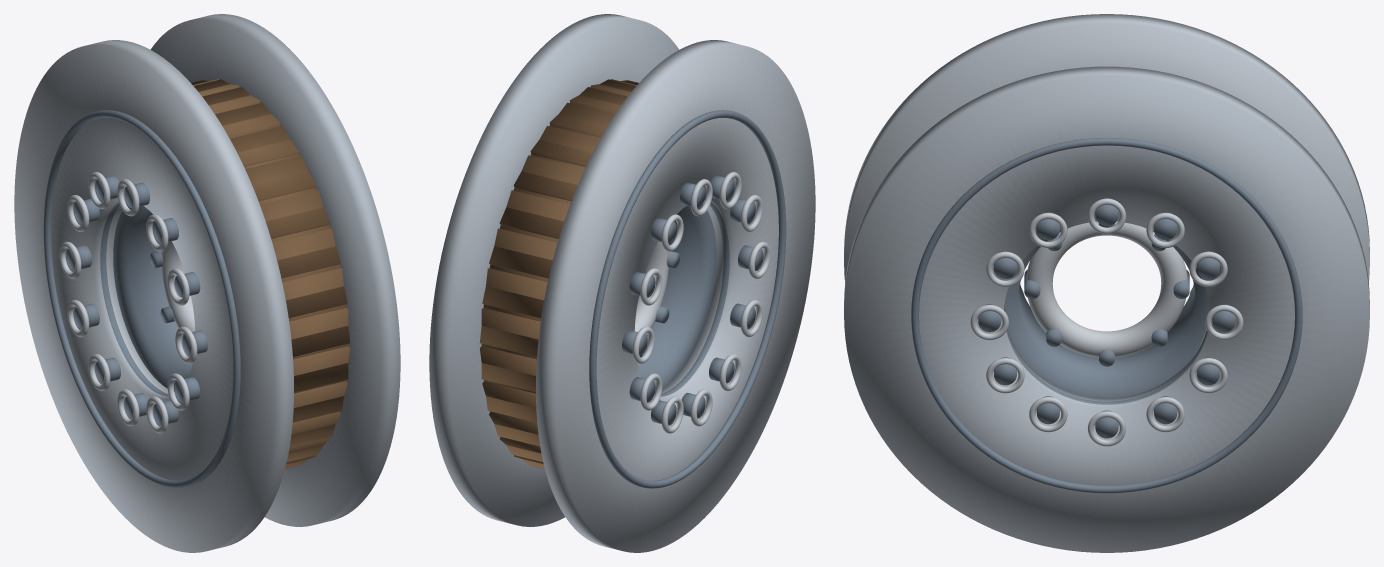
File: alstom_disc.glb
3 views of the same model, side by side, from view 1: azimuth 30°, elevation 25°; view 2: azimuth 150°, elevation 25°; view 3: azimuth 270°, elevation 25° (orthographic).
Visible parts, largest first — view 1: Pista izquierda, Pista derecha, Pista izquierda canal de desgaste, Aro de fijación, Canal ventilacion 14, Canal ventilacion 13, Canal ventilacion 15, Canal ventilacion 12, Canal ventilacion 16, Canal ventilacion 11, Canal ventilacion 17, Canal ventilacion 10 (+18 smaller); view 2: Pista izquierda, Pista derecha, Pista izquierda canal de desgaste, Aro de fijación, Canal ventilacion 03, Canal ventilacion 04, Canal ventilacion 02, Canal ventilacion 05, Canal ventilacion 01, Canal ventilacion 06, Canal ventilacion 30, Canal ventilacion 07 (+18 smaller); view 3: Pista derecha, Pista izquierda, Aro de fijación, Pista derecha canal de desgaste, Anillo cubo, Pista derecha borde interior, Arandela derecho 10, Arandela derecho 03, Arandela derecho 05, Arandela derecho 01, Arandela derecho 07, Arandela derecho 09 (+6 smaller).
Boxes of the visible parts, x1,y1,x2,y2 form: Pista izquierda: (14,40,293,552); Pista derecha: (150,14,400,526); Pista izquierda canal de desgaste: (43,110,240,488); Aro de fijación: (113,204,192,391); Canal ventilacion 14: (272,228,347,318); Canal ventilacion 13: (260,190,340,278); Canal ventilacion 15: (282,268,349,356); Canal ventilacion 12: (245,155,330,238); Canal ventilacion 16: (289,308,348,392); Canal ventilacion 11: (230,126,316,201); Canal ventilacion 17: (292,346,350,422); Canal ventilacion 10: (215,102,299,167); Pista izquierda: (536,40,815,552); Pista derecha: (429,14,679,526); Pista izquierda canal de desgaste: (589,110,786,488); Aro de fijación: (637,204,716,391); Canal ventilacion 03: (482,228,557,318); Canal ventilacion 04: (489,190,569,278); Canal ventilacion 02: (480,268,547,356); Canal ventilacion 05: (499,155,584,238); Canal ventilacion 01: (481,308,540,392); Canal ventilacion 06: (513,126,599,201); Canal ventilacion 30: (479,346,537,422); Canal ventilacion 07: (530,102,614,167); Pista derecha: (844,66,1369,552); Pista izquierda: (844,14,1369,282); Aro de fijación: (1005,228,1208,398); Pista derecha canal de desgaste: (911,138,1302,493); Anillo cubo: (1026,221,1187,357); Pista derecha borde interior: (1004,299,1209,404); Arandela derecho 10: (1087,411,1126,446); Arandela derecho 03: (1146,212,1184,248); Arandela derecho 05: (1029,212,1067,248); Arandela derecho 01: (1205,305,1243,340); Arandela derecho 07: (970,305,1008,340); Arandela derecho 09: (1029,397,1067,432).
Bounding box in the file's own units: 1.08 × 2.96 × 2.96.
